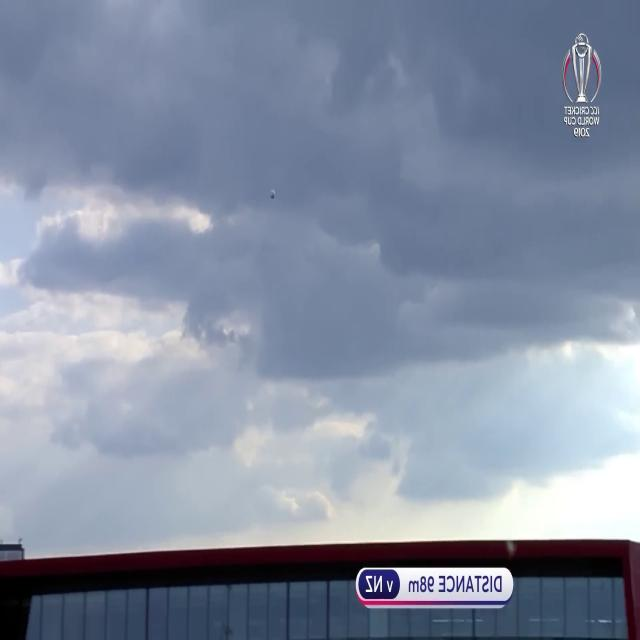ball: (268, 187, 278, 203)
